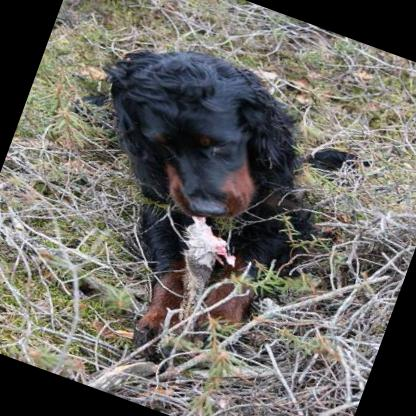Gordon_setter: (0, 10, 391, 412)
